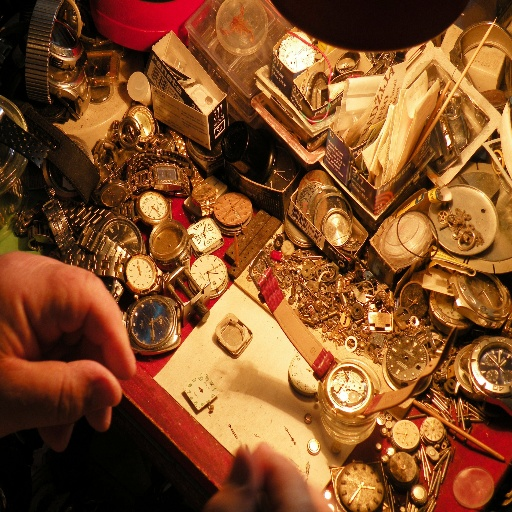hand: (3, 240, 146, 466), (201, 439, 334, 511)
